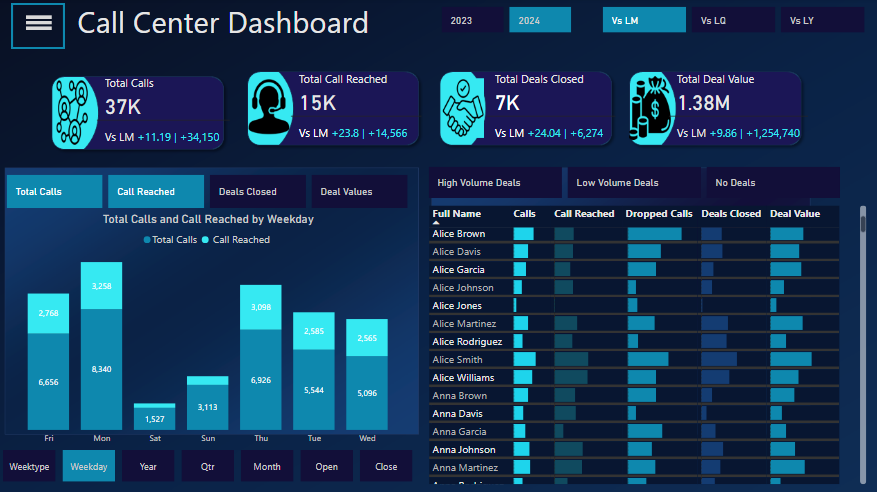

The page's visual inventory and layout, read from the dashboard file:
{"tool":"powerbi","page":{"name":"Page 2","canvas":[1280,720],"ordinal":1},"visuals":[{"type":"cardVisual","fields":{"Data":["DAX Measures.Total Calls"]},"box":[10.8,0,203.1,144.6],"z":0},{"type":"slicer","fields":{"Values":["Switch KPI.Compare"]},"box":[768.5,0,151.8,128.5],"z":1000},{"type":"slicer","fields":{"Values":["Calendar.Month"]},"box":[945.9,0,141.9,371.6],"z":2000},{"type":"slicer","fields":{"Values":["Calendar.Year"]},"box":[540.5,216.2,156.8,125.7],"z":3000},{"type":"cardVisual","fields":{"Data":["DAX Measures.Total Call Reached"]},"box":[235.1,1.4,210.8,144.6],"z":4000},{"type":"cardVisual","fields":{"Data":["DAX Measures.Total Deals Closed"]},"box":[463.5,0,220.3,144.6],"z":5000},{"type":"cardVisual","fields":{"Data":["DAX Measures.Total Deal Value"]},"box":[723,0,208.1,144.6],"z":6000},{"type":"columnChart","fields":{"Y":["DAX Measures.Total Deals Closed","DAX Measures.Total Call Reached"],"Category":["Calendar.Month","Calendar.Qtr","Calendar.Year","Calendar.Weektype","Calendar.Weekday"]},"box":[0,309.5,517.6,344.6],"z":7000},{"type":"advancedSlicerVisual","fields":{"Values":["Switch Measure.Switch Measure"]},"box":[0,250,517.6,59.5],"z":8000},{"type":"bookmarkNavigator","box":[0,662.2,517.6,45.9],"z":9000},{"type":"tableEx","fields":{"Values":["Append1.Full Name","DAX Measures.Total Calls","DAX Measures.Total Call Reached","DAX Measures.Dropped Calls","DAX Measures.Total Deals Closed","DAX Measures.Total Deal Value"]},"box":[517.6,418.9,570.3,301.4],"z":9001},{"type":"advancedSlicerVisual","fields":{"Values":["Switch KPI.Compare"]},"box":[517.6,359.5,391.9,48.6],"z":9002}]}

Visuals, with their boxes in screenshot pixels (x1, y1, x2, y2), scaled from the page's 1280x720 canvas onto the 877x492 screenshot:
cardVisual - DAX Measures.Total Calls: [7,0,147,99]
slicer - Switch KPI.Compare: [527,0,631,88]
slicer - Calendar.Month: [648,0,745,254]
slicer - Calendar.Year: [370,148,478,234]
cardVisual - DAX Measures.Total Call Reached: [161,1,306,100]
cardVisual - DAX Measures.Total Deals Closed: [318,0,469,99]
cardVisual - DAX Measures.Total Deal Value: [495,0,638,99]
columnChart - DAX Measures.Total Deals Closed x DAX Measures.Total Call Reached: [0,211,355,447]
advancedSlicerVisual - Switch Measure.Switch Measure: [0,171,355,211]
bookmarkNavigator: [0,453,355,484]
tableEx - Append1.Full Name x DAX Measures.Total Calls: [355,286,745,491]
advancedSlicerVisual - Switch KPI.Compare: [355,246,623,279]
